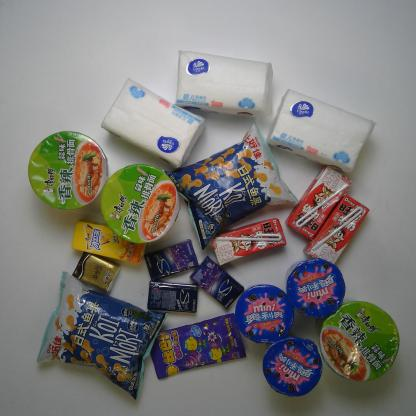Candy: (150, 310, 248, 381)
Dessert: (261, 334, 323, 398), (284, 256, 346, 319), (234, 283, 296, 345)
Drink: (70, 217, 148, 266)
Gum: (189, 254, 245, 311), (143, 238, 199, 282), (146, 280, 200, 314)
Instant Noodles: (314, 296, 400, 383), (26, 130, 110, 212), (100, 162, 181, 246)
Milk: (284, 165, 353, 241), (302, 192, 370, 264), (211, 216, 288, 267)
Puffed Food: (160, 119, 302, 252), (34, 270, 170, 402)
Tissue: (99, 76, 207, 171), (265, 86, 378, 175), (174, 49, 276, 120), (71, 250, 122, 294)
